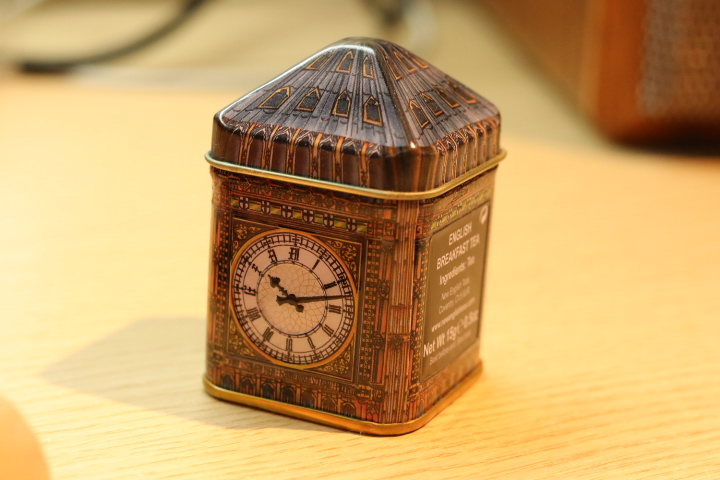Big Ben: (192, 28, 516, 443)
